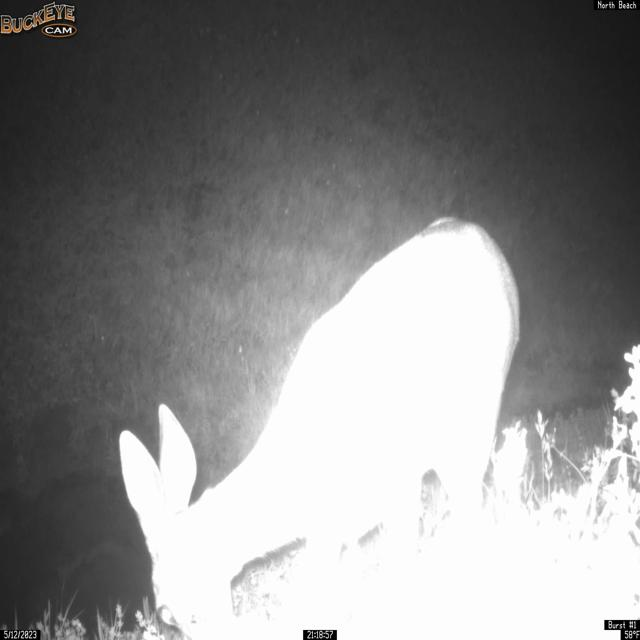deer: (118, 215, 521, 640)
